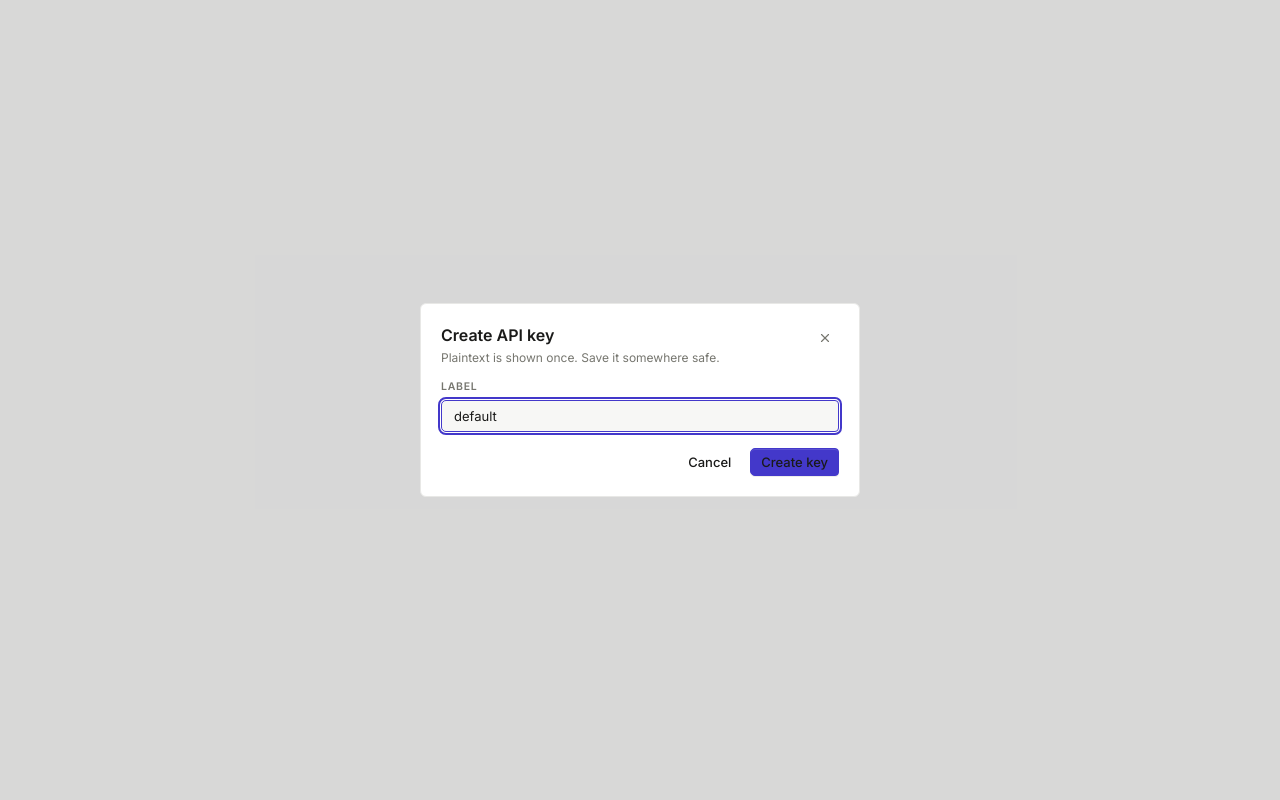
Test: CreateApiKeyDialog › shows the plaintext key once after submit and only once
This screenshot has width=1280, height=800.
Replace the text in the field labelled "Label" with "dashboard" at coordinates (640, 416), box [441, 400, 839, 432]
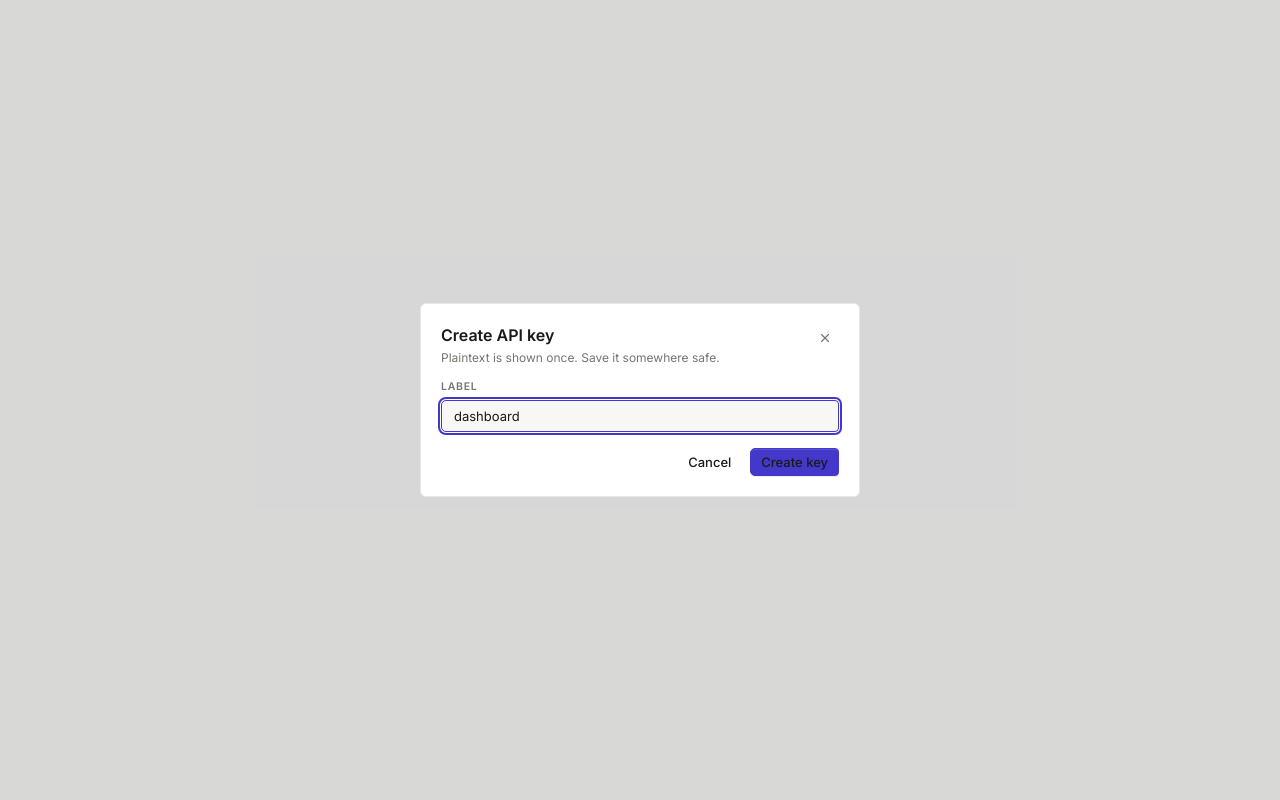
Click the button "Create key".
click(795, 462)  # box [750, 448, 839, 476]
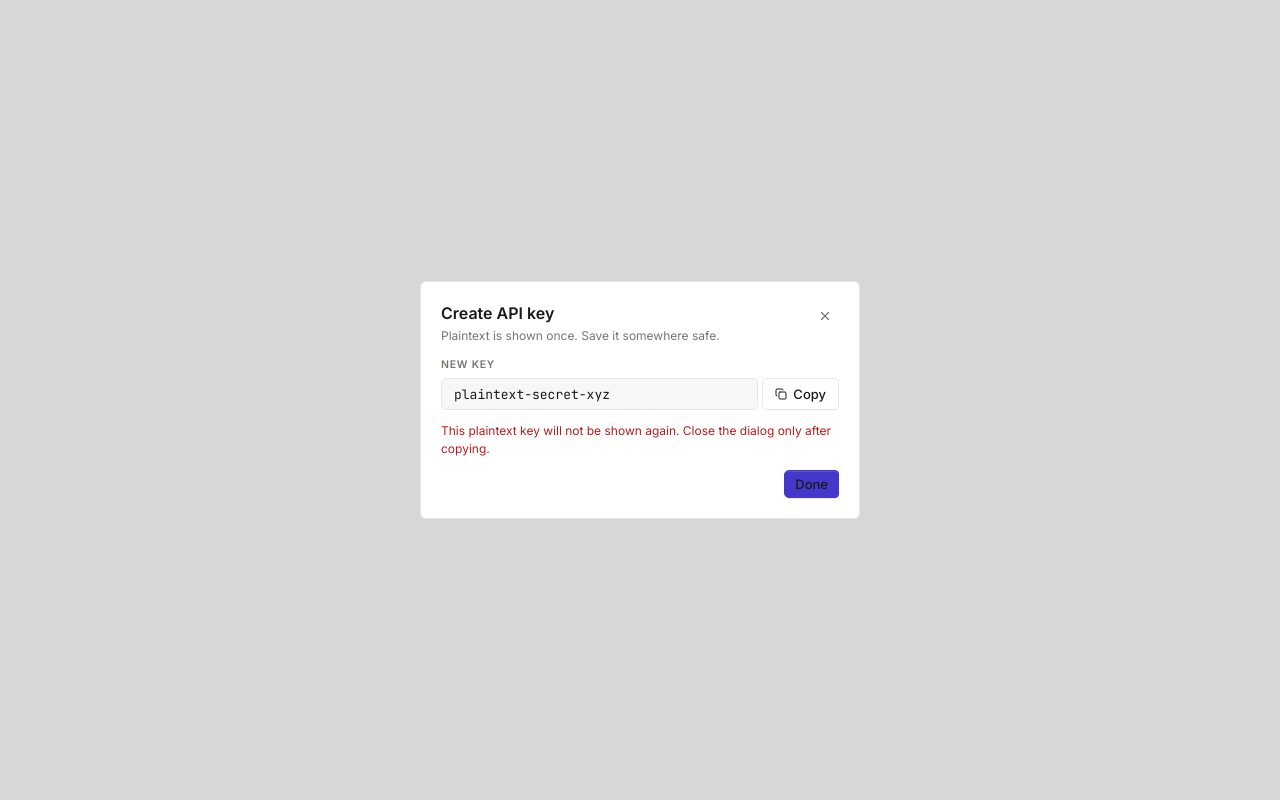
Expected: the field showing "plaintext-secret-xyz" is shown, [441, 378, 758, 410]
